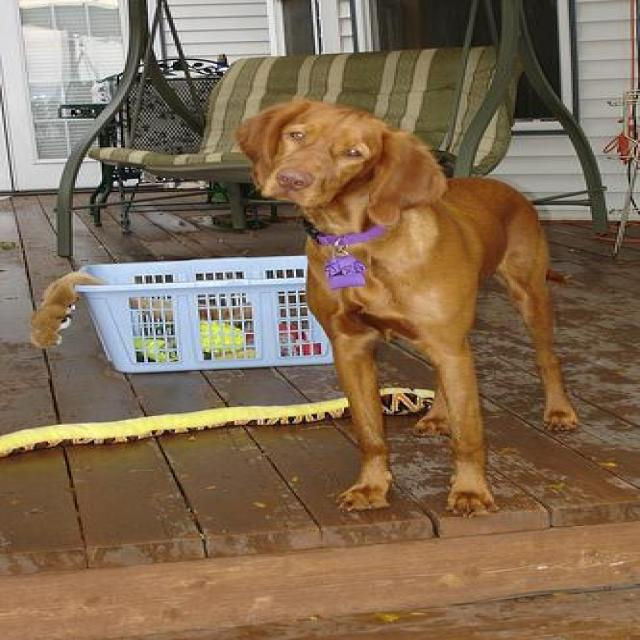vizsla: (230, 93, 576, 520)
